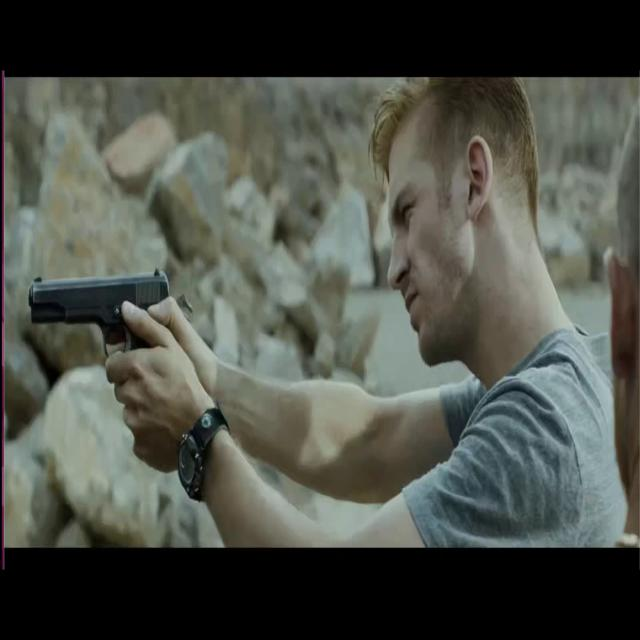weapons: (21, 240, 202, 411)
